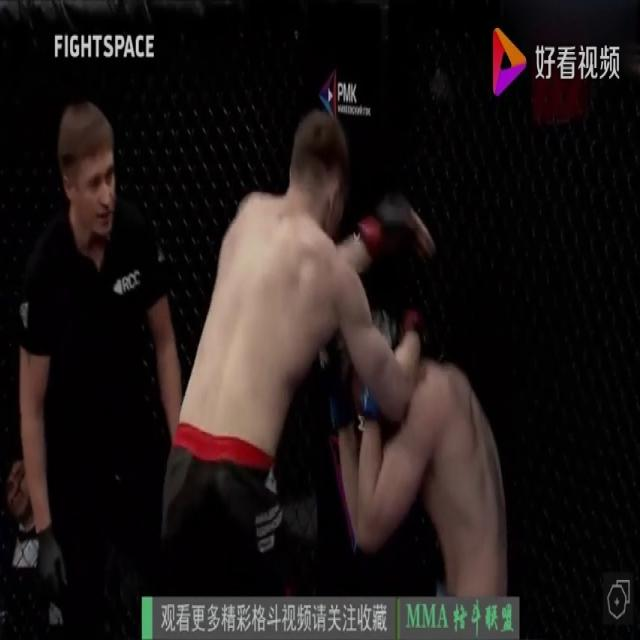fight: (149, 109, 513, 632)
non-fight: (0, 86, 192, 634)
